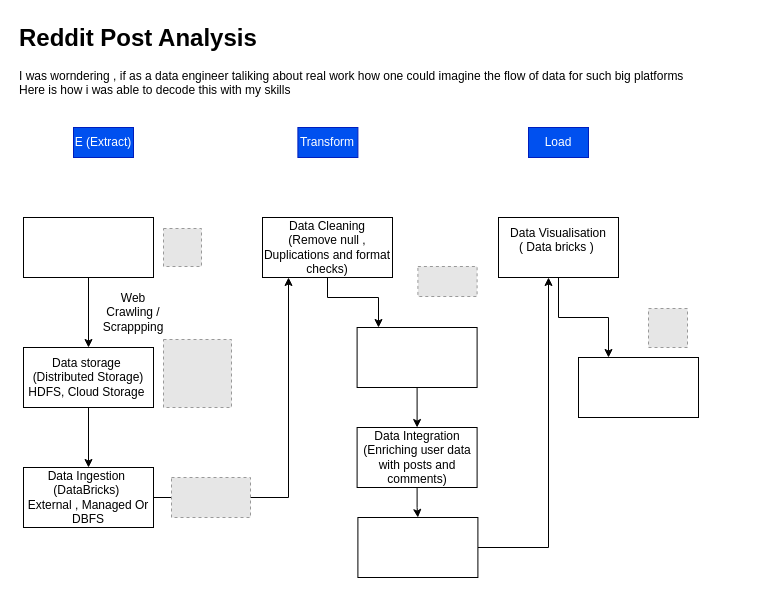
The diagram is 784 pixels wide and 595 high, and some of its shapes have lost their labels. Grey dashed boxes stand in for pictures. Each missing label, with the centre of its shape:
Data Analysis (Insights -> Follower count, identifying trends etc): [417,547]
Data Storage (Data Warehouse, Data lakes ) OLAP: [638,387]
Data Transformation (Column operations, Flattening nested data etc): [416,357]
Reddit (70 million active users, 510 uers): [88,247]
